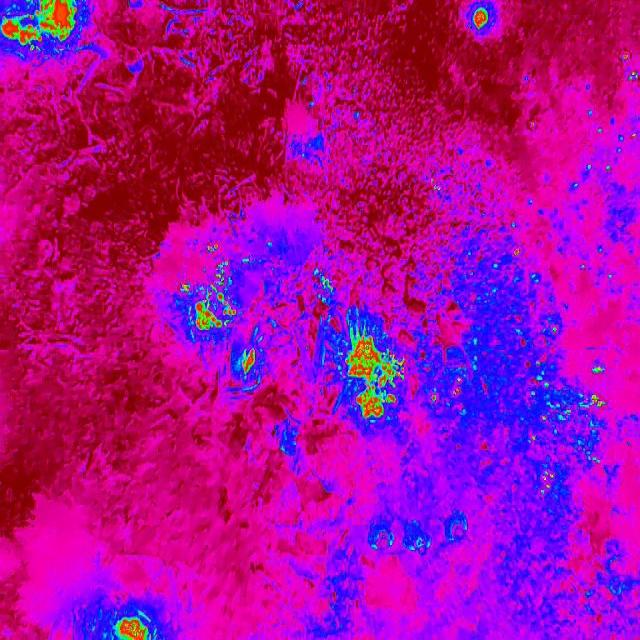fire: (500, 240, 626, 498), (339, 330, 412, 422), (0, 0, 77, 54), (184, 276, 236, 332), (113, 610, 151, 640), (430, 374, 464, 404), (239, 342, 258, 378), (469, 5, 494, 31), (316, 274, 344, 297), (206, 243, 222, 255)
